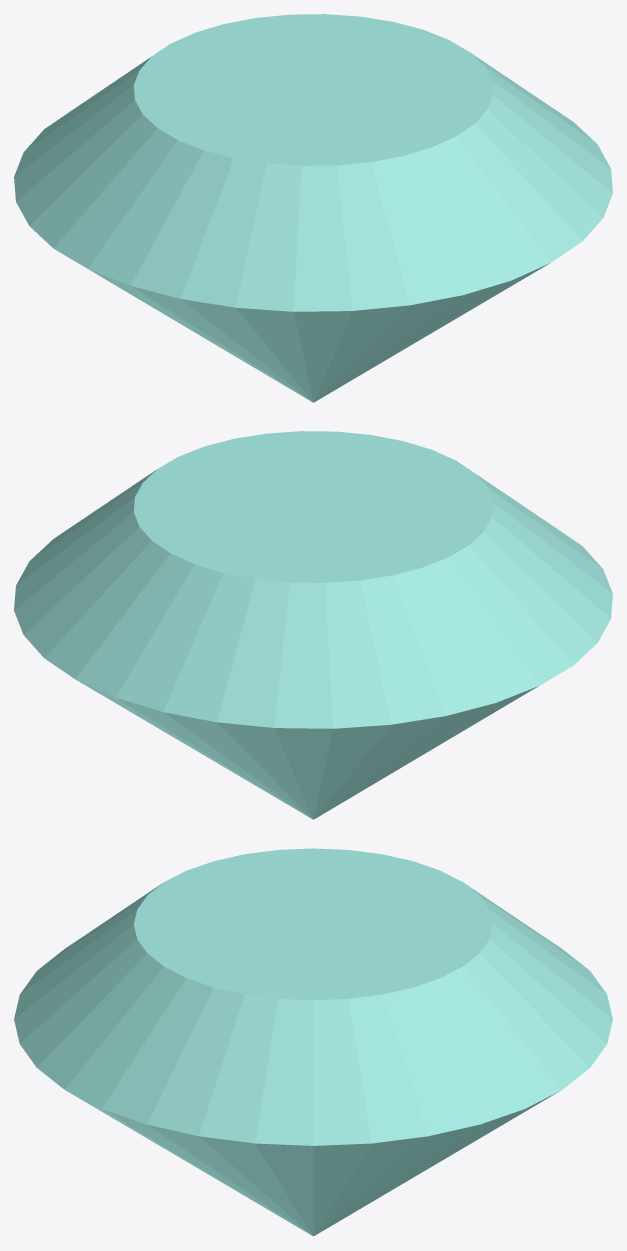
File: diamond.gltf
The picture shows the model from 3 angles, top to bottom: view 1: azimuth 30°, elevation 25°; view 2: azimuth 150°, elevation 25°; view 3: azimuth 270°, elevation 25°; orthographic projection.
Parts seen in each view (by area): view 1: Diamond; view 2: Diamond; view 3: Diamond.
Boxes of the visible parts, x1,y1,x2,y2 form: Diamond: (14,14,612,402); Diamond: (14,431,612,819); Diamond: (14,848,612,1236).
Bounding box in the file's own units: 2 × 1.15 × 2.
